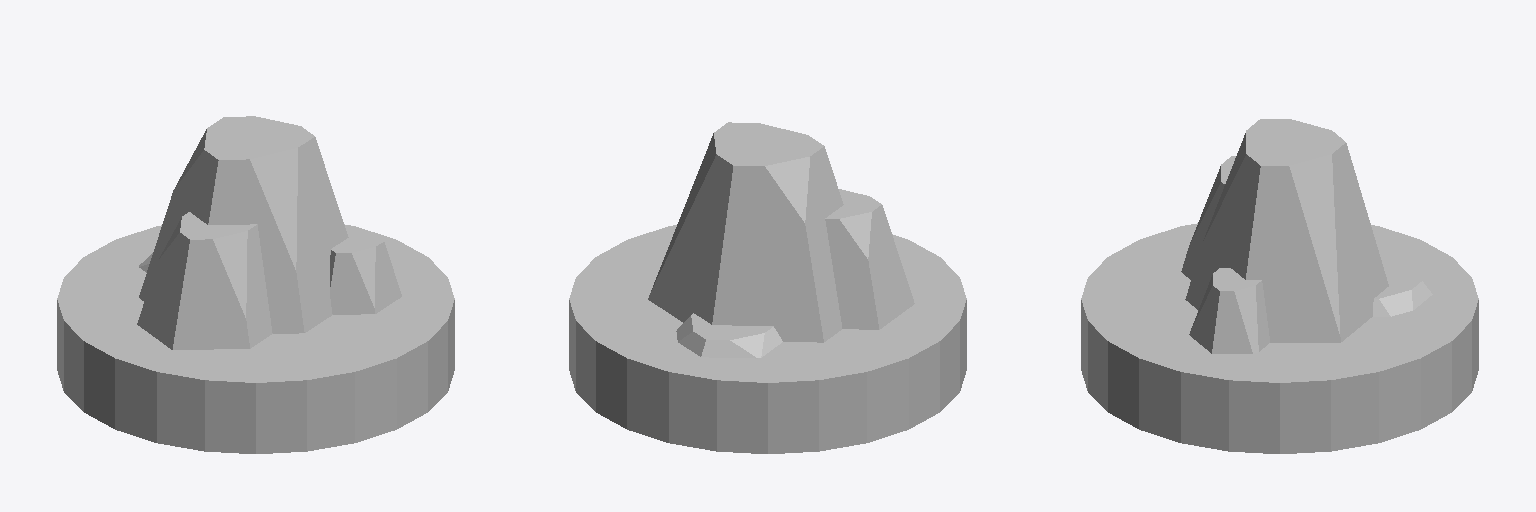
The model's file is gems_amethyst_2.obj.
3 renders of one model, left to right at view 1: azimuth 30°, elevation 25°; view 2: azimuth 150°, elevation 25°; view 3: azimuth 270°, elevation 25°, orthographic.
Parts seen in each view (by area): view 1: mergedBlocks; view 2: mergedBlocks; view 3: mergedBlocks.
Boxes of the visible parts, box(x1,y1,x2,y2) form: mergedBlocks: box(57, 116, 454, 453); mergedBlocks: box(569, 122, 966, 453); mergedBlocks: box(1081, 119, 1478, 453).
Size of the model in its own units: 1 by 0.635 by 1.